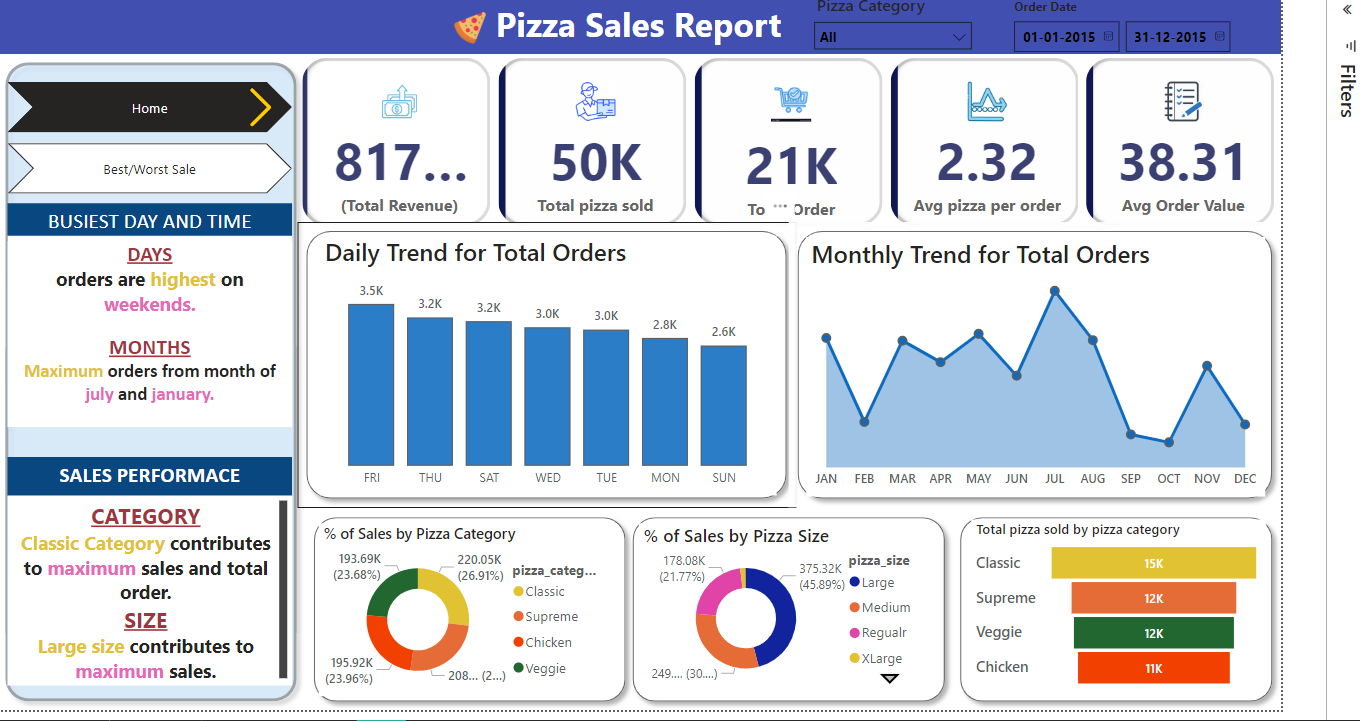

This screenshot's page, from the dashboard's own definition file:
{"tool":"powerbi","page":{"name":"Home","canvas":[1280,720],"ordinal":0},"visuals":[{"type":"cardVisual","fields":{"Data":["pizza_sales.(Total Revenue)","pizza_sales.Total pizza sold","pizza_sales.Total_Order","pizza_sales.Avg pizza per order","pizza_sales.Avg Order Value"]},"box":[301.2,66.2,978.8,177.5],"z":0},{"type":"shape","box":[0,1.2,1281,65.5],"z":1000},{"type":"image","box":[451.7,7.2,42.8,66.7],"z":2000},{"type":"shape","box":[301.4,234.3,495.7,284.3],"z":3000},{"type":"shape","box":[790,234.3,490,284.3],"z":4000},{"type":"columnChart","title":"Daily Trend for Total Orders","fields":{"Y":["pizza_sales.Total_Order"],"Category":["pizza_sales.order_day"]},"box":[322.9,247.1,454.3,258.6],"z":5000},{"type":"areaChart","title":"Monthly Trend for Total Orders","fields":{"Y":["pizza_sales.Total_Order"],"Category":["pizza_sales.order_Month"]},"box":[807.1,248.6,457.1,258.6],"z":6000},{"type":"shape","box":[308.6,518.6,328,201.4],"z":7000},{"type":"shape","box":[625.7,518.6,328.6,201.4],"z":8000},{"type":"shape","box":[951.4,518.6,328.6,201.4],"z":9000},{"type":"shape","box":[1,66,308,654],"z":10000},{"type":"donutChart","title":"% of Sales by Pizza Category","fields":{"Category":["pizza_sales.pizza_category"],"Y":["pizza_sales.(Total Revenue)"]},"box":[322.7,534,289.7,172.2],"z":11000},{"type":"donutChart","title":"% of Sales by Pizza Size","fields":{"Category":["pizza_sales.pizza_size"],"Y":["pizza_sales.(Total Revenue)"]},"box":[640.2,534,293.8,167],"z":12000},{"type":"funnel","title":"Total pizza sold by pizza category","fields":{"Category":["pizza_sales.pizza_category"],"Y":["pizza_sales.Total pizza sold"]},"box":[971.2,530,293.8,171.2],"z":13000},{"type":"textbox","box":[12.5,215,283.3,37.5],"z":14000},{"type":"textbox","box":[12.5,247.5,283.3,190],"z":15000},{"type":"textbox","box":[12.5,467.5,283.3,38.3],"z":16000},{"type":"textbox","box":[12.5,505.8,283.3,189.2],"z":17000},{"type":"pageNavigator","box":[13,94,283,50],"z":18000},{"type":"pageNavigator","box":[13,155,283,50],"z":19000},{"type":"image","box":[240,94,49,50],"z":20000},{"type":"slicer","fields":{"Values":["pizza_sales.pizza_category"]},"box":[805,1.2,177.5,65],"z":23000},{"type":"slicer","fields":{"Values":["pizza_sales.order_date"]},"box":[1001.2,6.2,263.8,66.2],"z":24000}]}

Visuals, with their boxes in screenshot pixels (x1, y1, x2, y2):
cardVisual - pizza_sales.(Total Revenue) x pizza_sales.Total pizza sold: (295, 51, 1263, 227)
shape: (0, 0, 1264, 52)
image: (443, 0, 486, 59)
shape: (295, 218, 785, 499)
shape: (778, 218, 1263, 499)
"Daily Trend for Total Orders" columnChart: (316, 230, 766, 486)
"Monthly Trend for Total Orders" areaChart: (795, 232, 1248, 488)
shape: (302, 499, 626, 698)
shape: (616, 499, 941, 698)
shape: (938, 499, 1263, 698)
shape: (0, 51, 302, 698)
"% of Sales by Pizza Category" donutChart: (316, 514, 602, 685)
"% of Sales by Pizza Size" donutChart: (630, 514, 921, 680)
"Total pizza sold by pizza category" funnel: (958, 510, 1248, 680)
textbox: (9, 199, 289, 236)
textbox: (9, 231, 289, 419)
textbox: (9, 448, 289, 486)
textbox: (9, 486, 289, 674)
pageNavigator: (9, 79, 289, 128)
pageNavigator: (9, 139, 289, 189)
image: (234, 79, 282, 128)
slicer - pizza_sales.pizza_category: (793, 0, 969, 51)
slicer - pizza_sales.order_date: (987, 0, 1248, 57)
